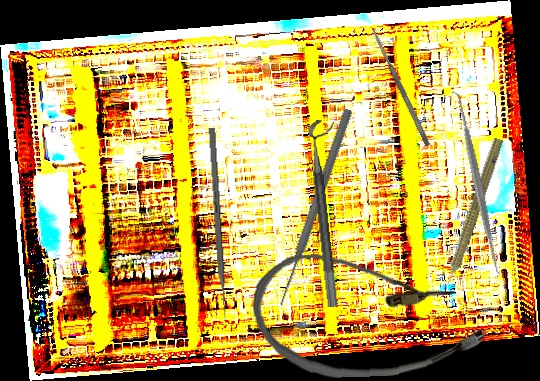Cannula: (251, 248, 487, 381)
Fixation Ring: (306, 118, 355, 308)
Handpiece: (434, 135, 507, 296)
Pusher: (274, 107, 355, 308), (208, 127, 229, 326)
Spatula Surgical: (447, 88, 507, 277), (370, 28, 432, 147)
